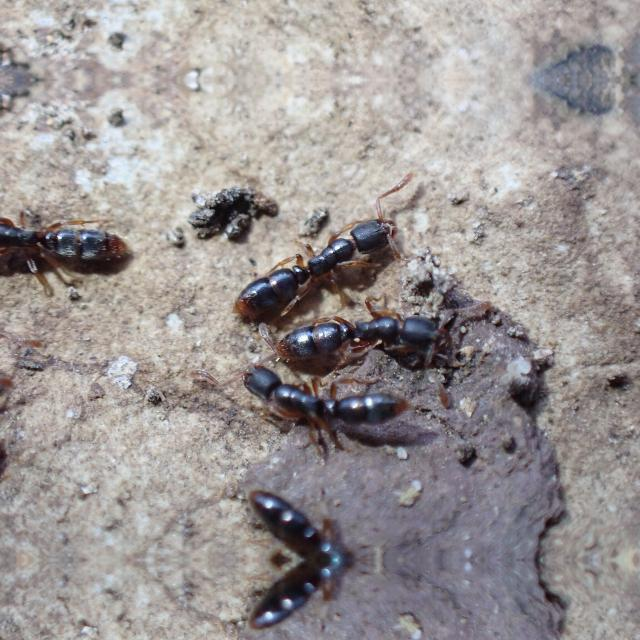Ponera: (230, 171, 442, 325), (226, 361, 444, 447), (250, 300, 488, 376), (252, 472, 372, 560), (250, 560, 372, 640), (0, 210, 124, 286)
